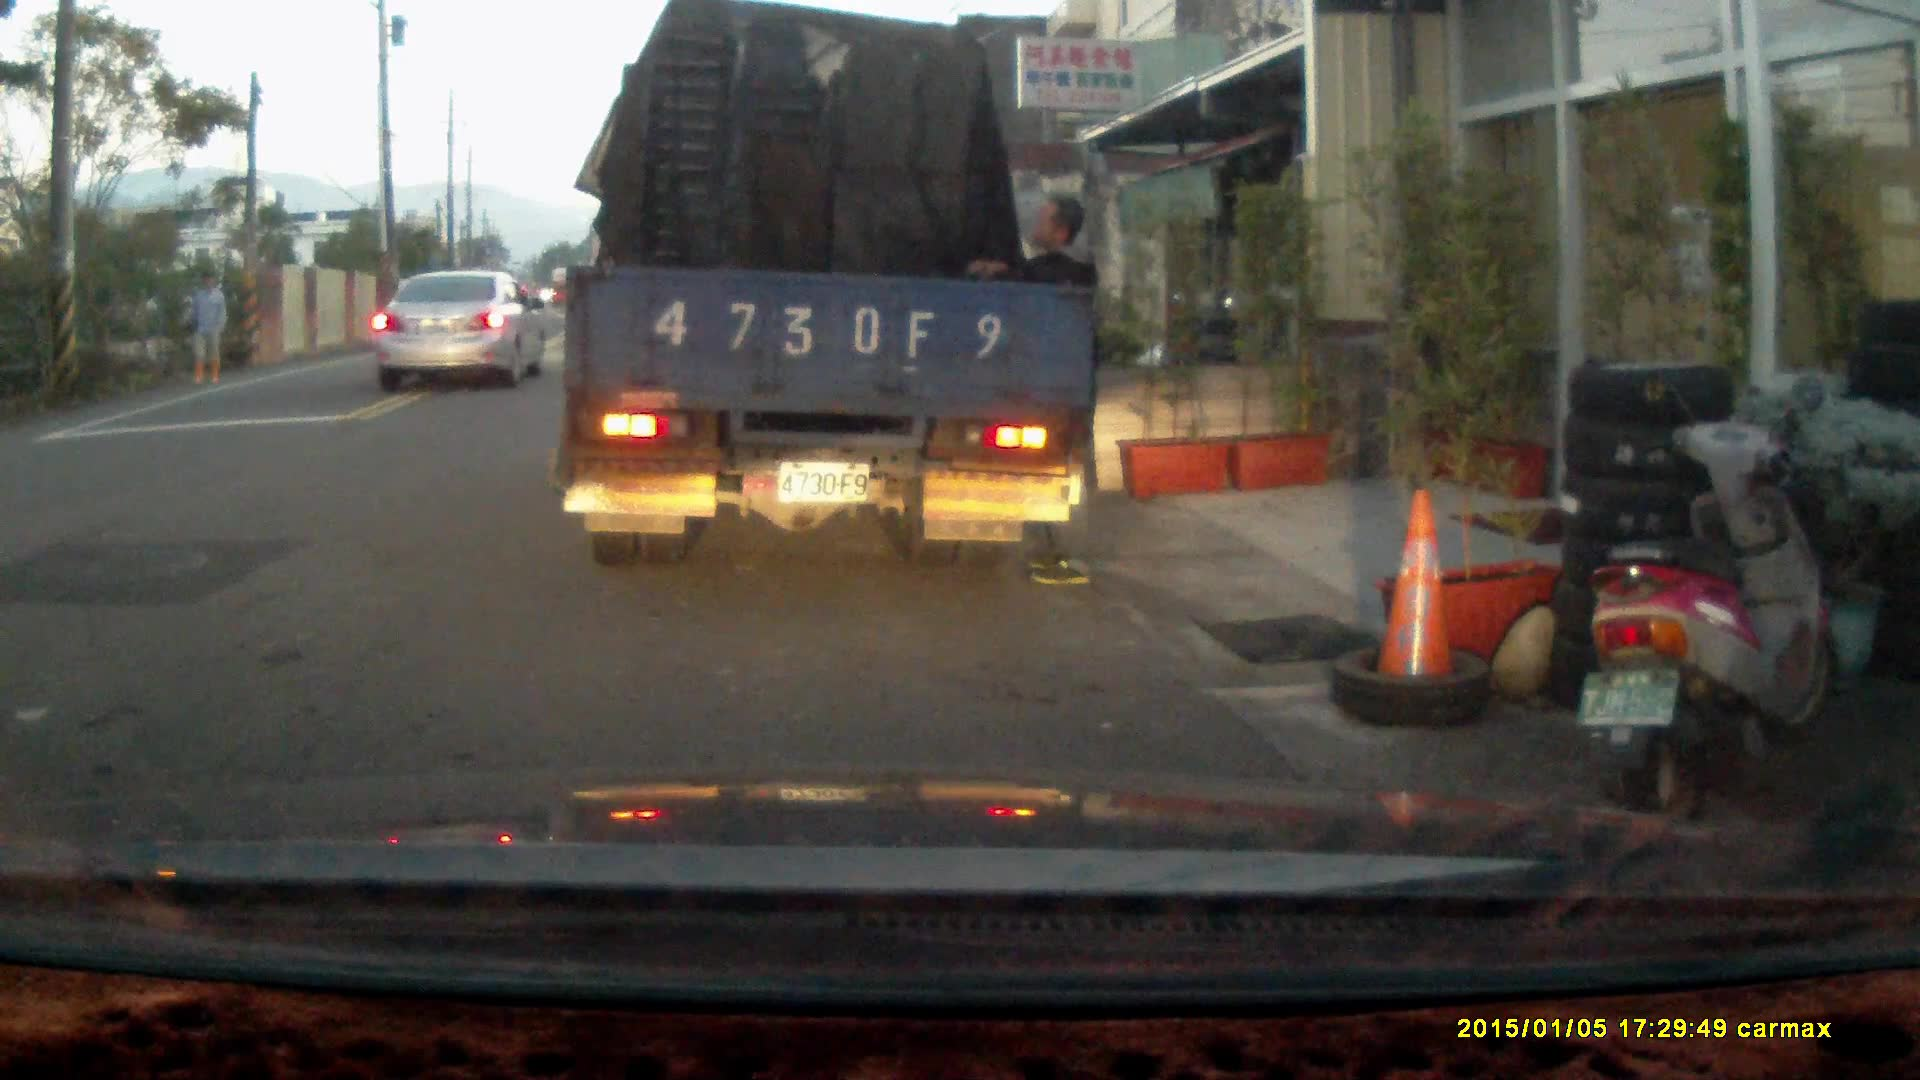pedestrian: (955, 194, 1099, 587), (182, 271, 227, 387)
vehicle: (565, 23, 1097, 572), (371, 268, 555, 393)
